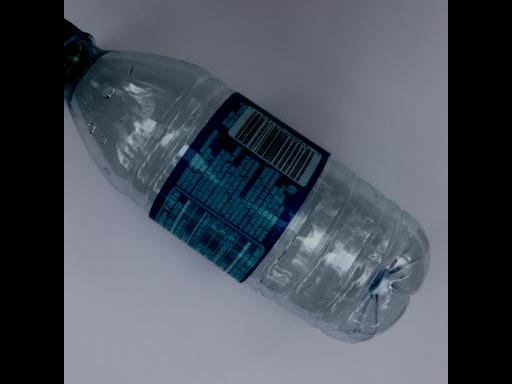bottle: (64, 15, 438, 348)
